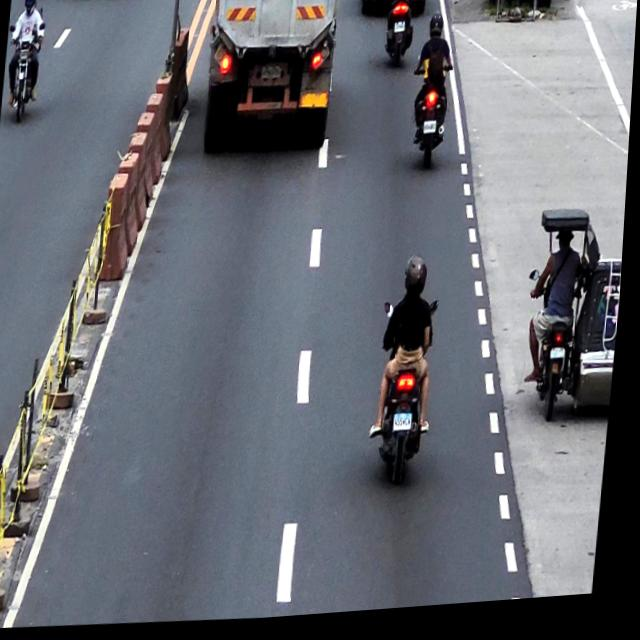License-Plate: (261, 67, 283, 85), (398, 419, 418, 437), (555, 354, 570, 368), (424, 126, 438, 139), (394, 26, 406, 40)
Motorcycle: (374, 302, 444, 491), (408, 55, 458, 177), (378, 0, 419, 77)
Tricycle: (521, 211, 628, 433)
Truck: (201, 0, 341, 160)
